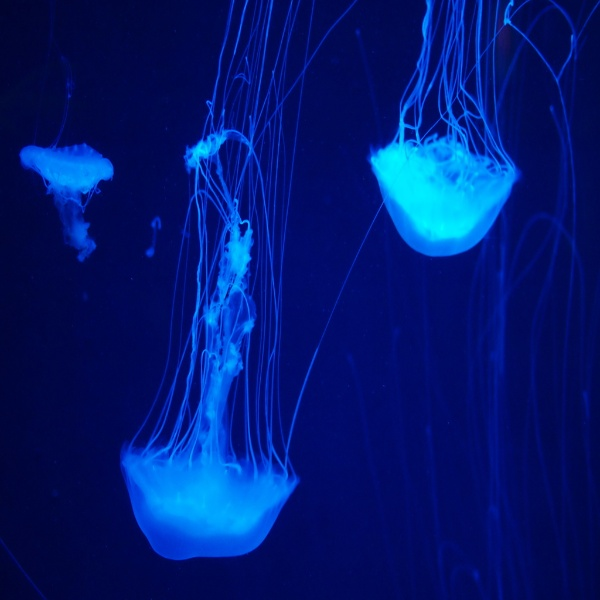Jellyfish: (120, 0, 530, 560), (367, 0, 522, 256), (19, 0, 114, 262)
